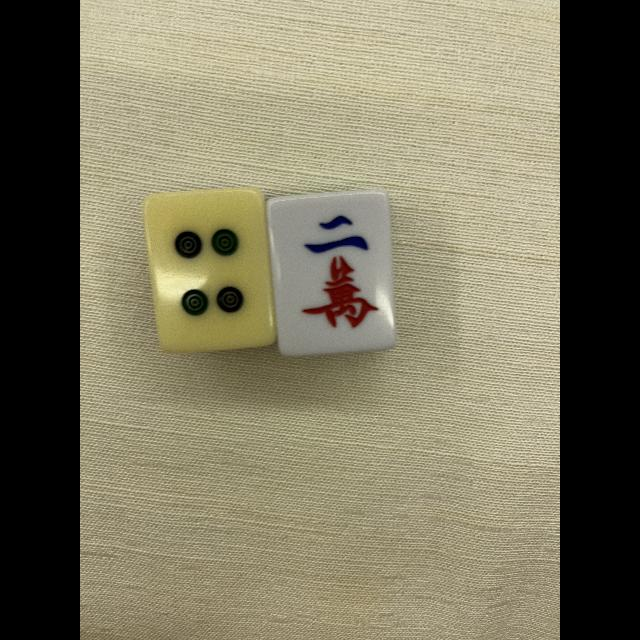c2: (276, 194, 392, 350)
d4: (150, 192, 270, 346)
